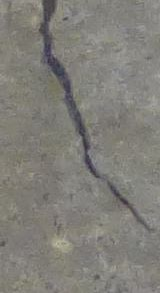Crack: (38, 1, 156, 233)
